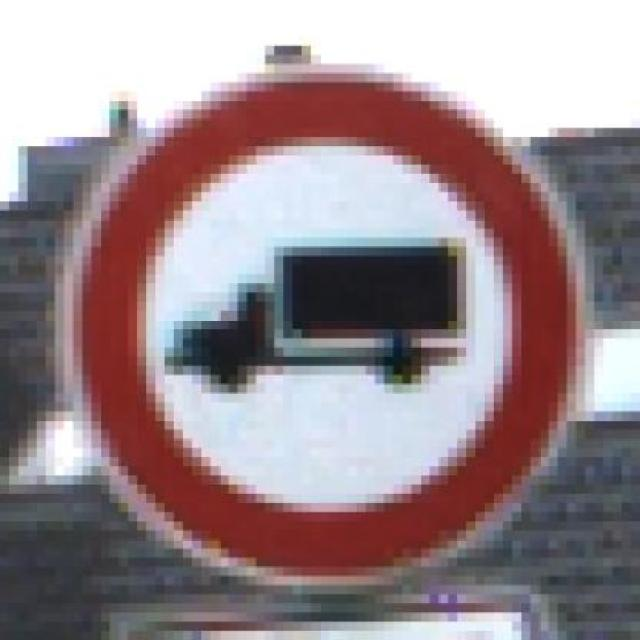Truck traffic is prohibited: (63, 27, 594, 595)
